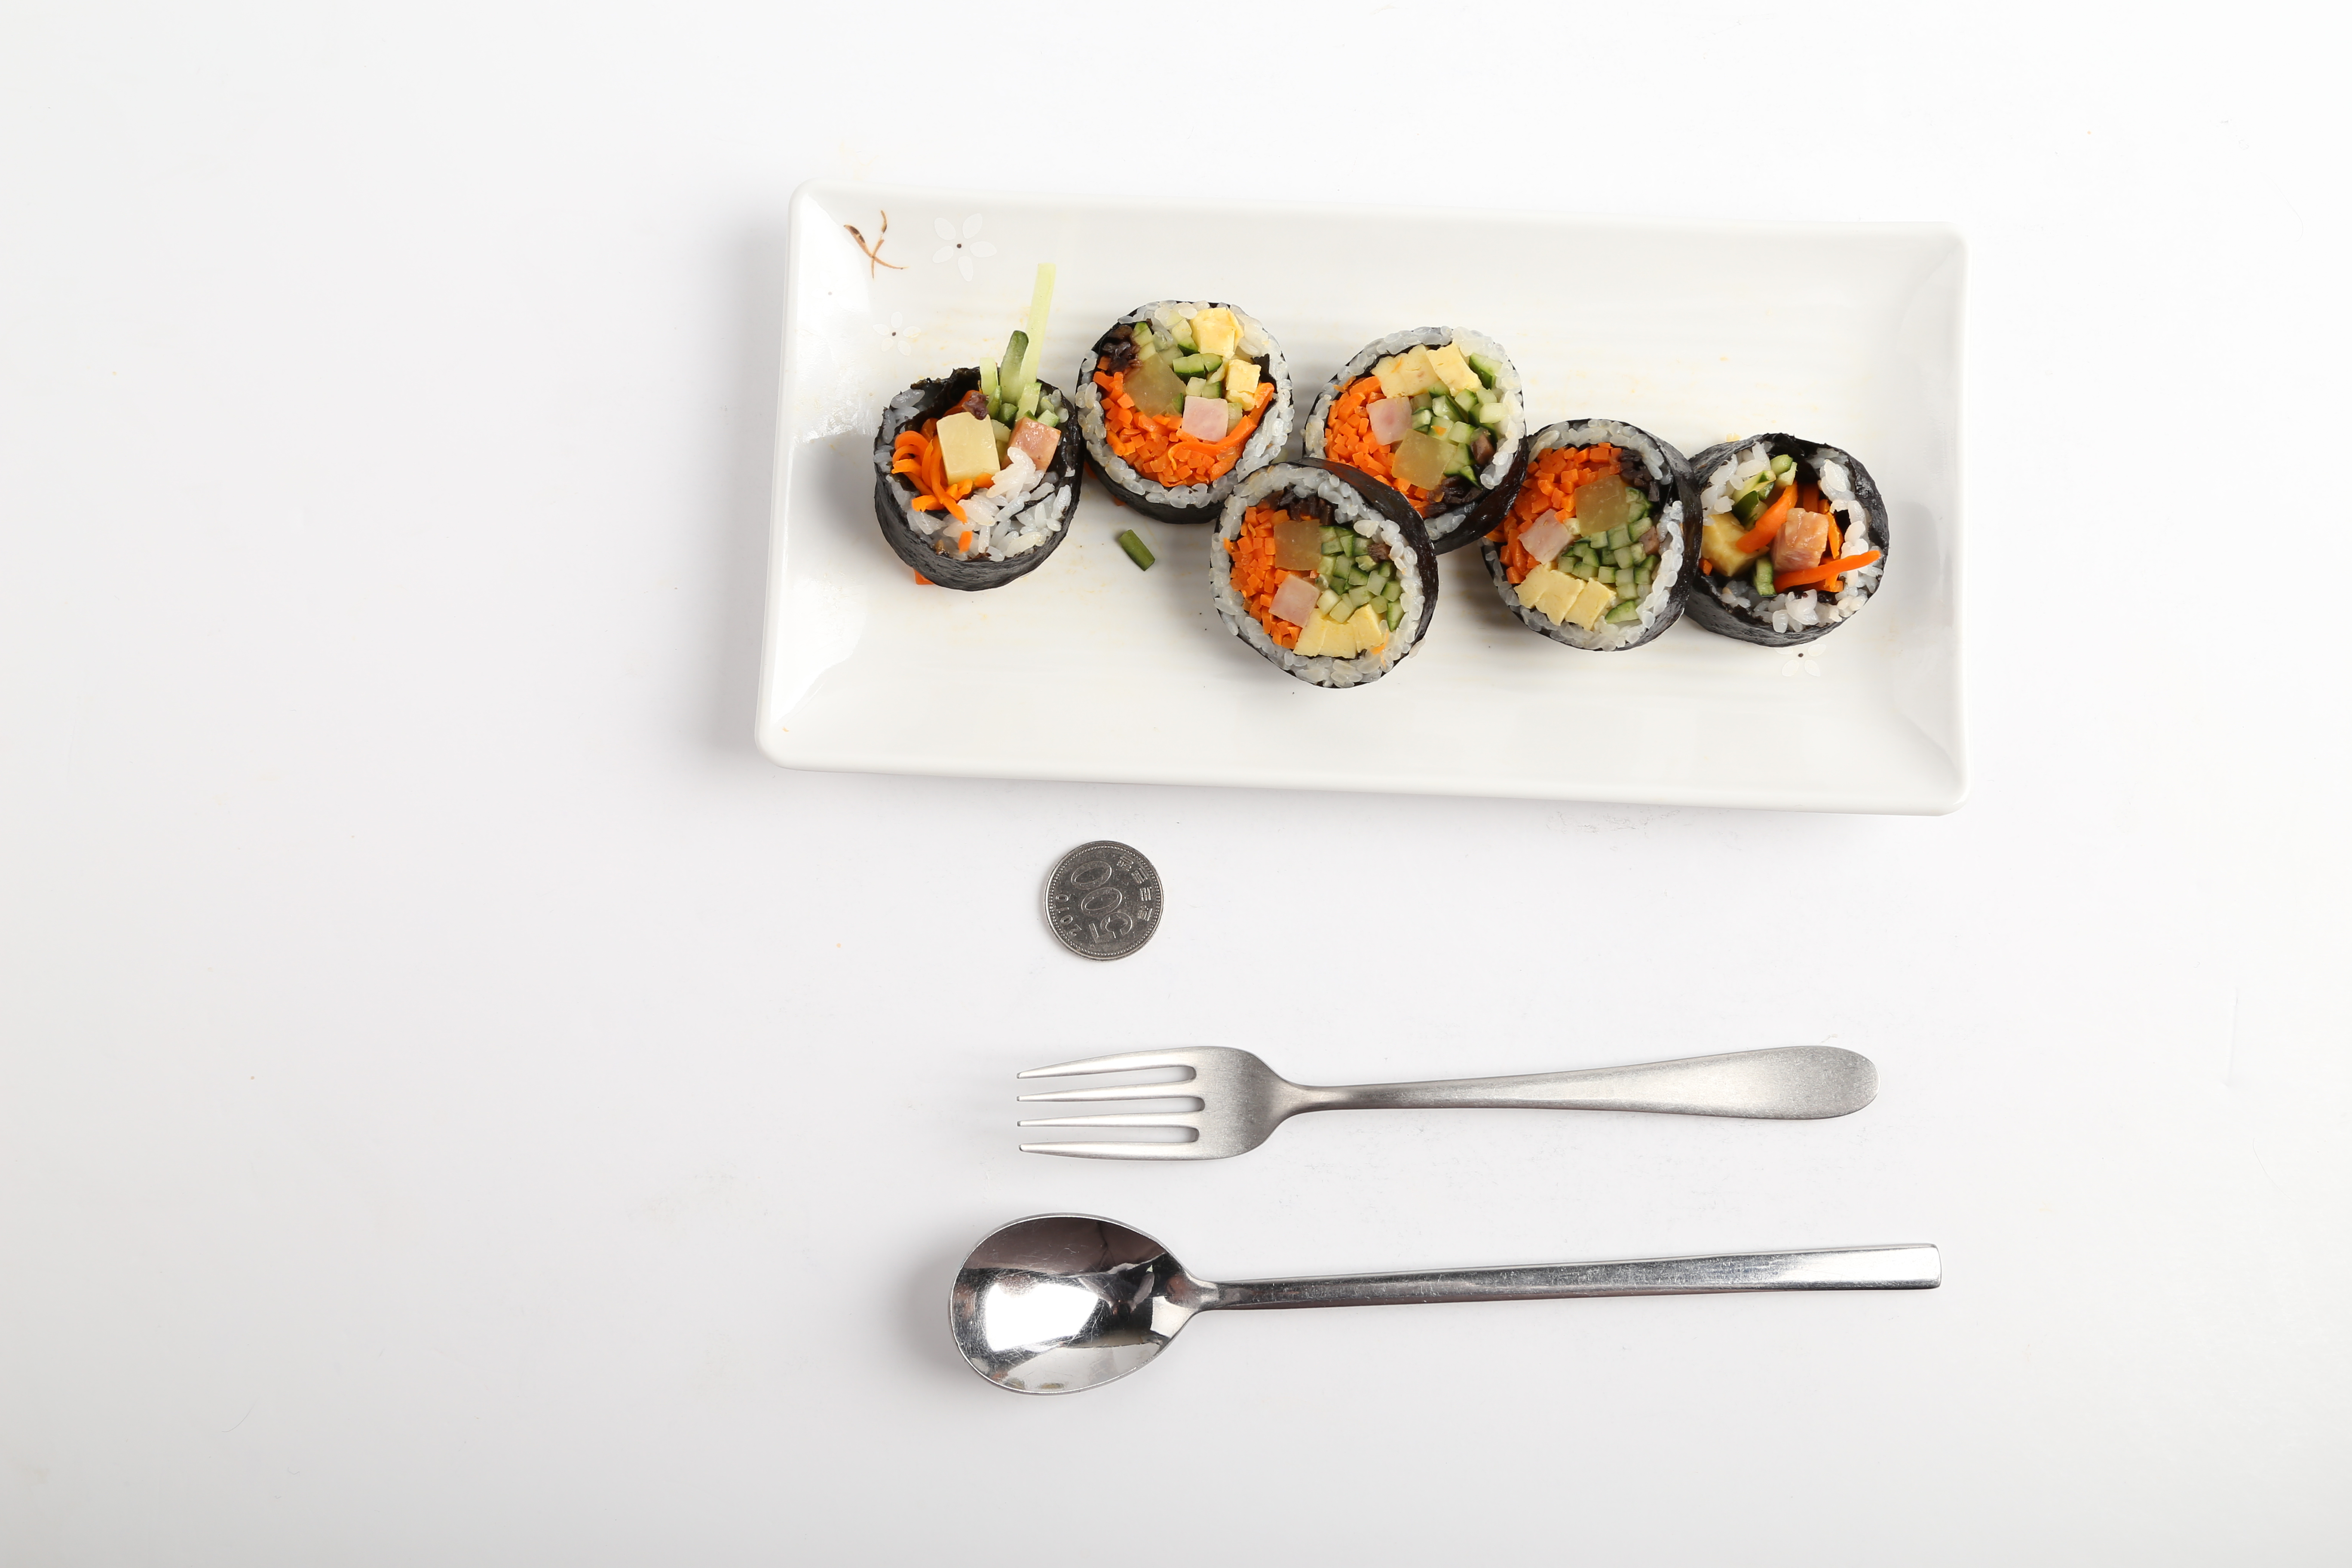dish: (747, 175, 1970, 817)
ref_coin: (1034, 831, 1171, 968)
ref_fork: (1011, 1039, 1368, 1169)
ref_spoon: (941, 1206, 1288, 1398)
김밥: (875, 292, 1892, 695)
